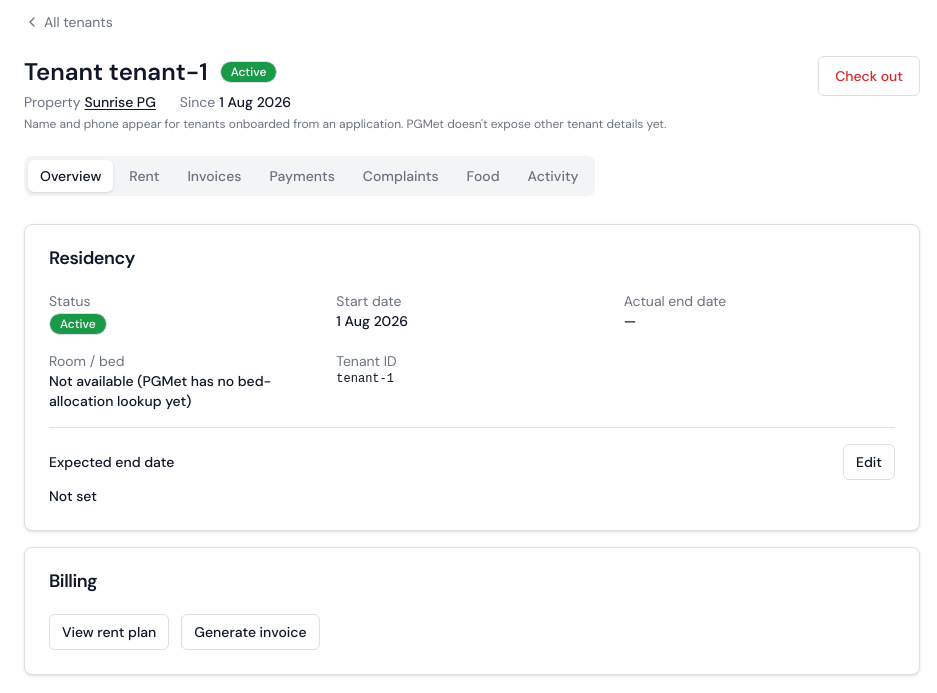
Test: ResidencyDetailPage — Tenant 360 › builds the Activity tab only from real record timestamps
Click the tab "Activity": click(553, 176) [516,160,591,192]
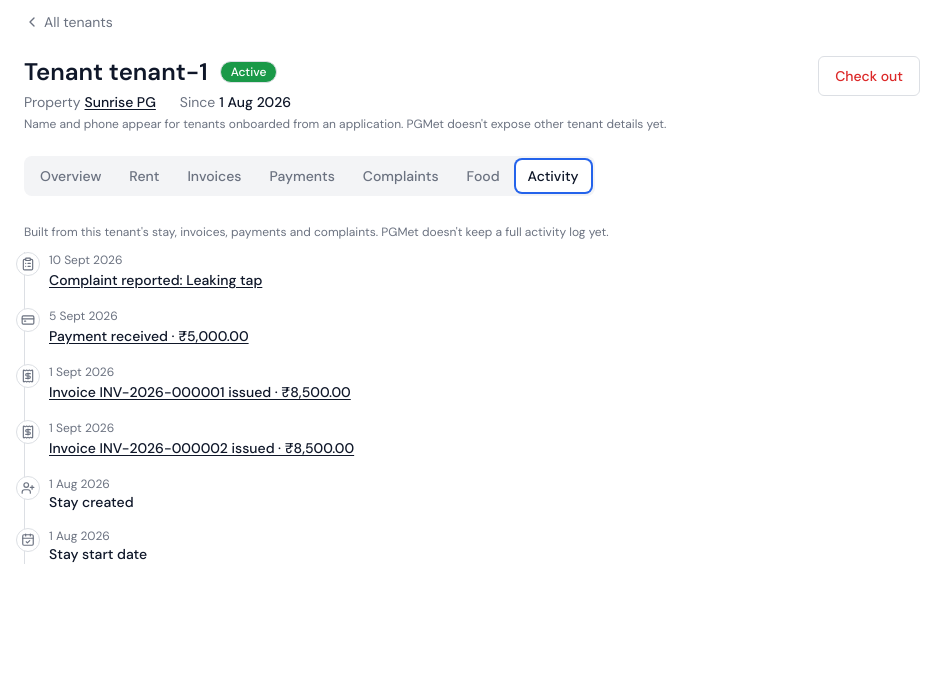
Now the text "Stay created" is shown, box [49,493,134,511]
Now the text "Stay start date" is shown, box [49,545,147,563]
Now the link "Invoice INV-2026-000001 issued · ₹8,500.00" is shown, box [49,383,351,401]
